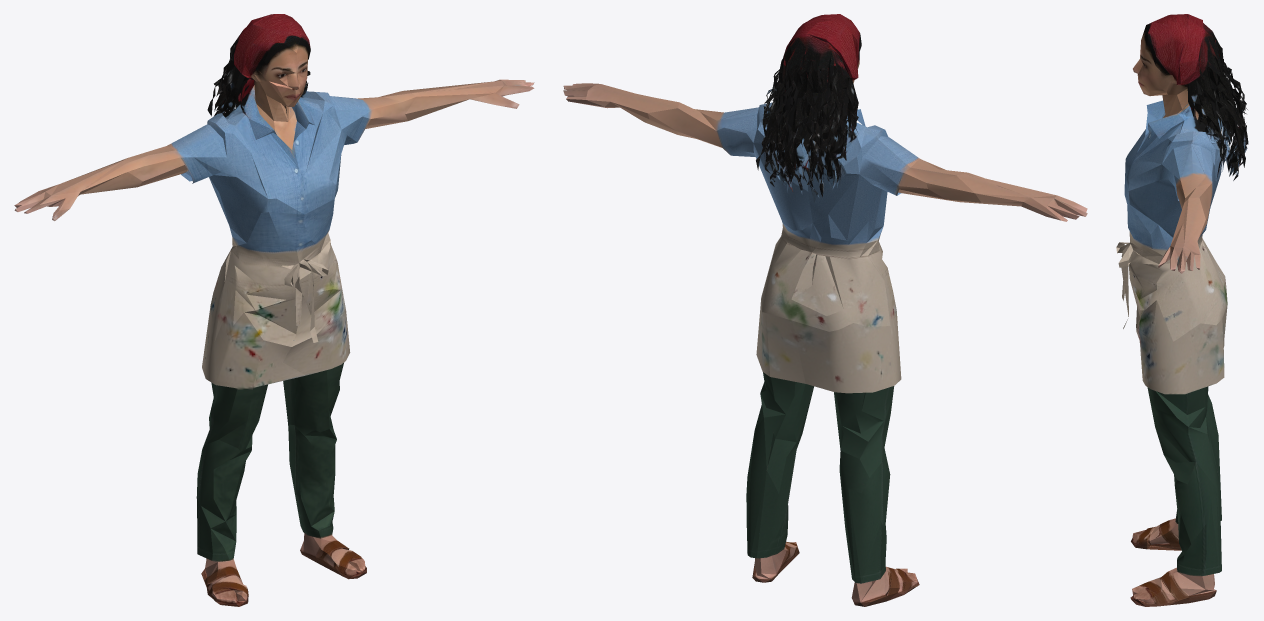
The model's file is image3d.glb.
3 renders of one model, left to right at view 1: azimuth 30°, elevation 25°; view 2: azimuth 150°, elevation 25°; view 3: azimuth 270°, elevation 25°, orthographic.
Size of the model in its own units: 1.85 by 1.9 by 0.4141.
Materials: 1 (1 with a texture image).
